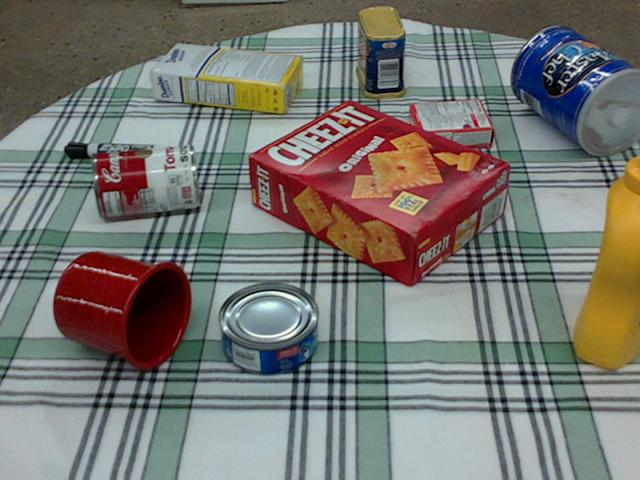cracker_box: (250, 98, 509, 284)
gelatin_box: (406, 95, 493, 153)
large_marker: (63, 142, 169, 160)
master_chef_can: (509, 26, 639, 155)
mug: (52, 251, 191, 369)
mustard_bottle: (573, 154, 639, 366)
potted_meat_can: (354, 5, 405, 98)
sugar_box: (150, 43, 304, 112)
tomato_soup_can: (91, 143, 200, 217)
tuna_fish_can: (216, 282, 317, 375)
